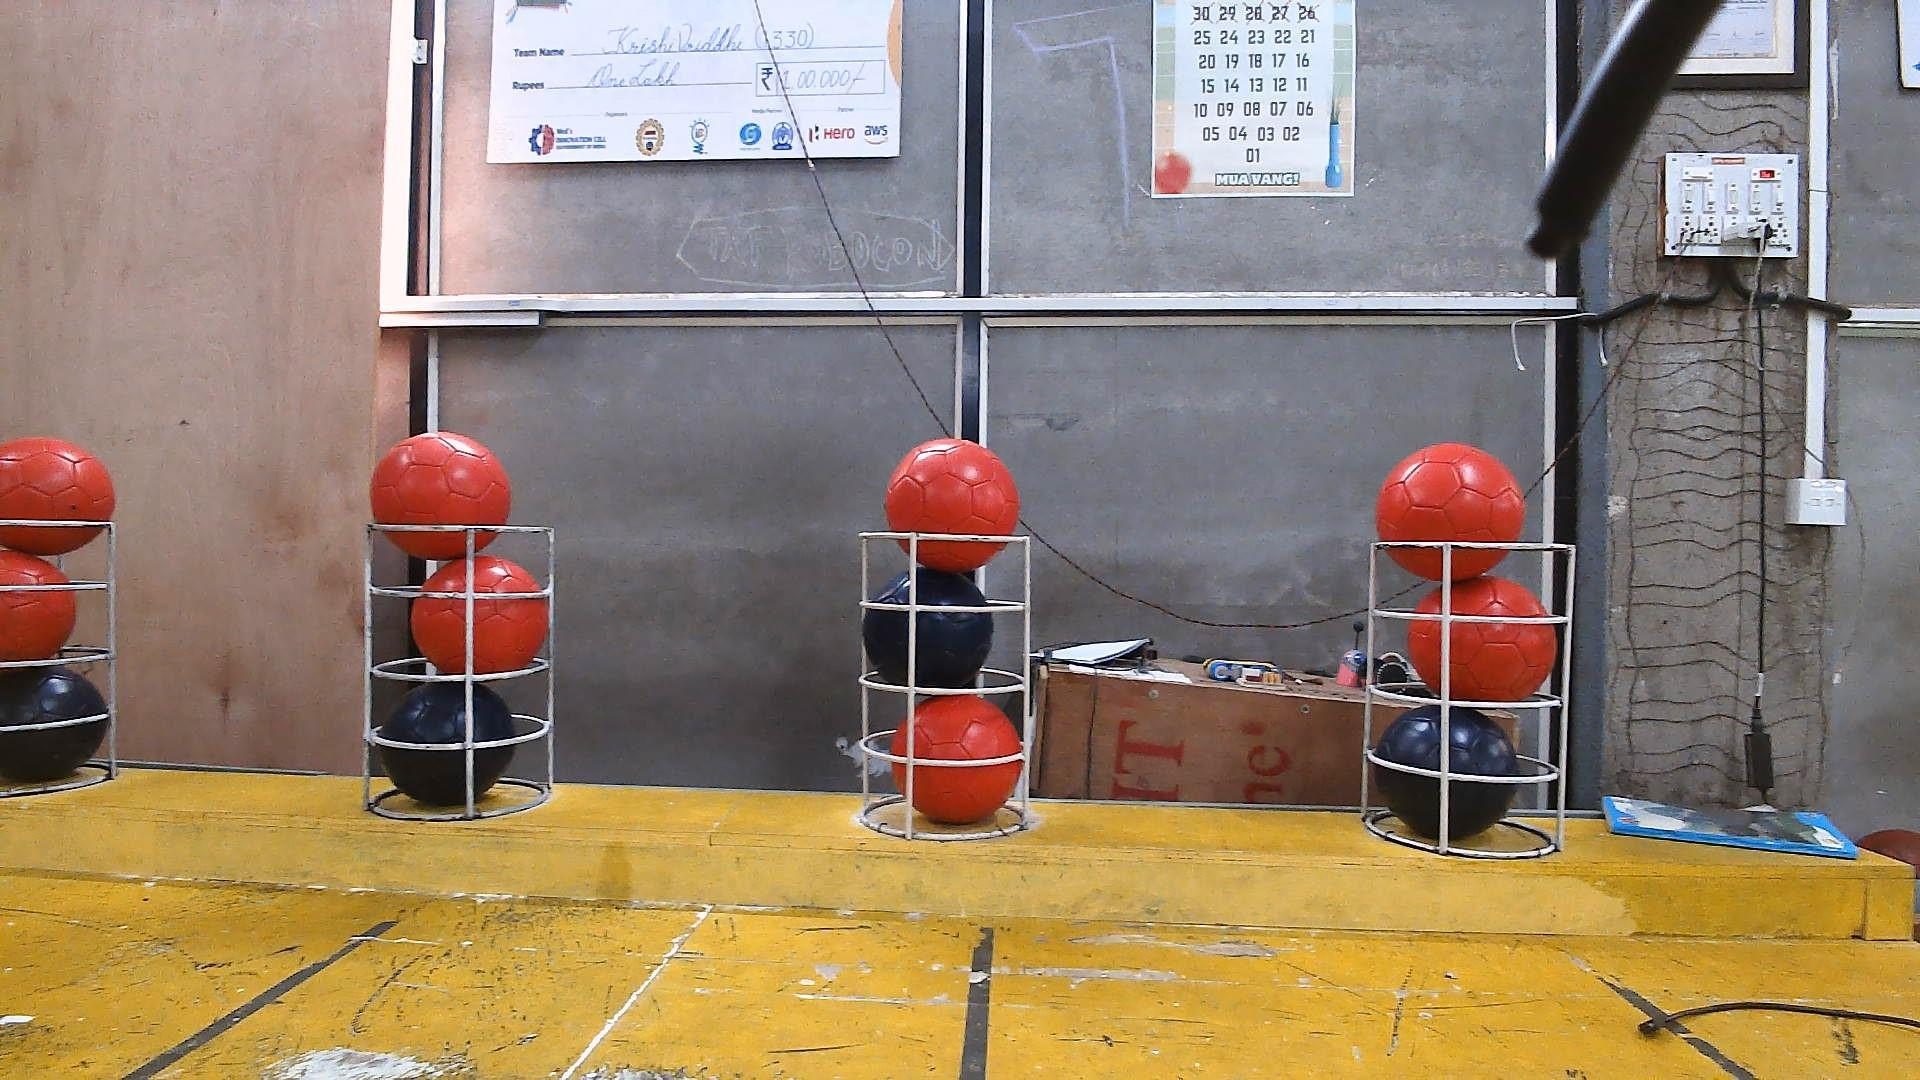dhoka: (1373, 705, 1519, 844), (375, 683, 514, 806), (862, 566, 994, 690), (0, 667, 108, 783)
laale: (1377, 443, 1526, 582), (1406, 578, 1556, 702), (885, 439, 1021, 574), (372, 431, 510, 563), (409, 555, 551, 679), (893, 694, 1023, 825), (0, 435, 116, 555), (0, 547, 75, 658)
